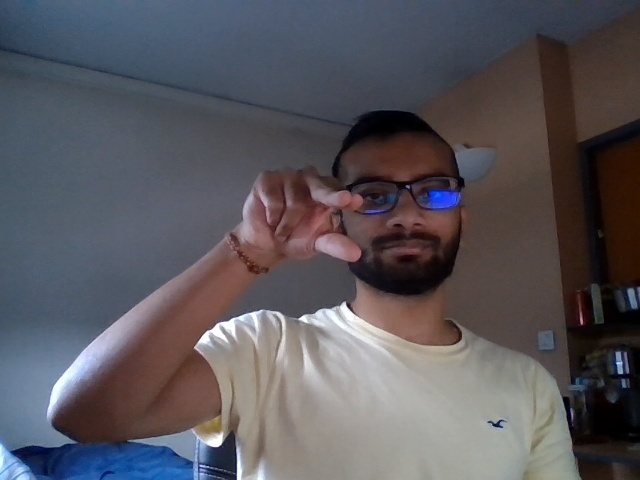No: (217, 156, 373, 280)
